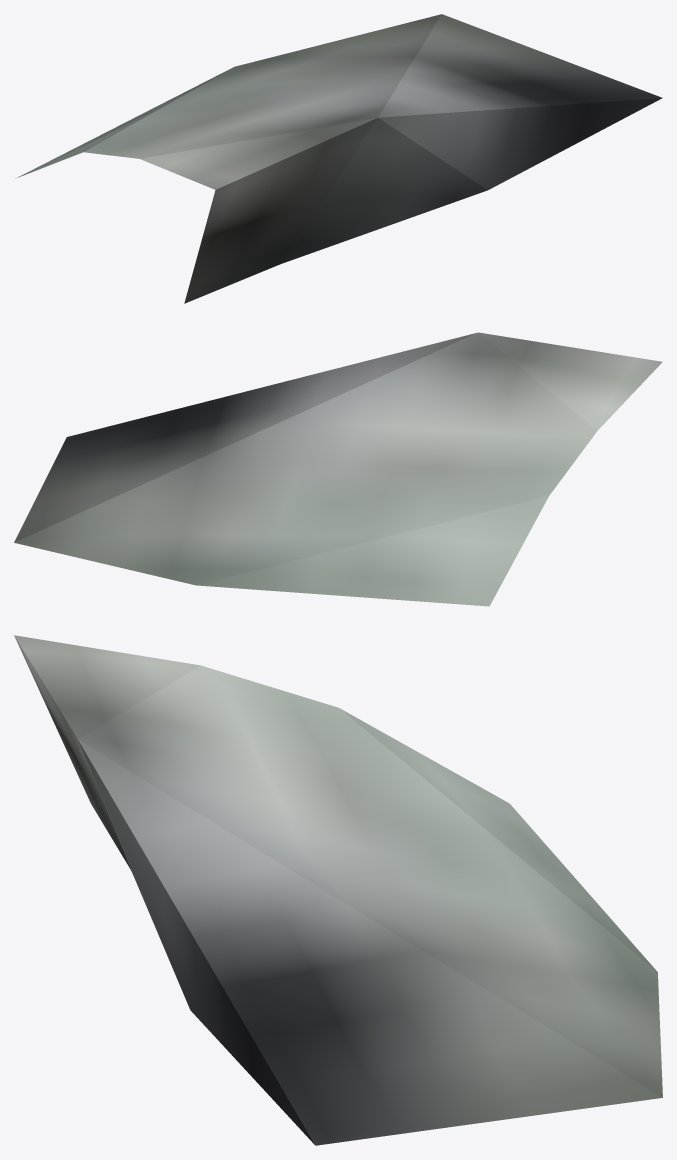
3 renders of one model, top to bottom at view 1: azimuth 30°, elevation 25°; view 2: azimuth 150°, elevation 25°; view 3: azimuth 270°, elevation 25°, orthographic. The views are drawn at different scales.
Bounding box in the file's own units: 0.0708 × 0.0171 × 0.0567.
1 material, 1 textured.
